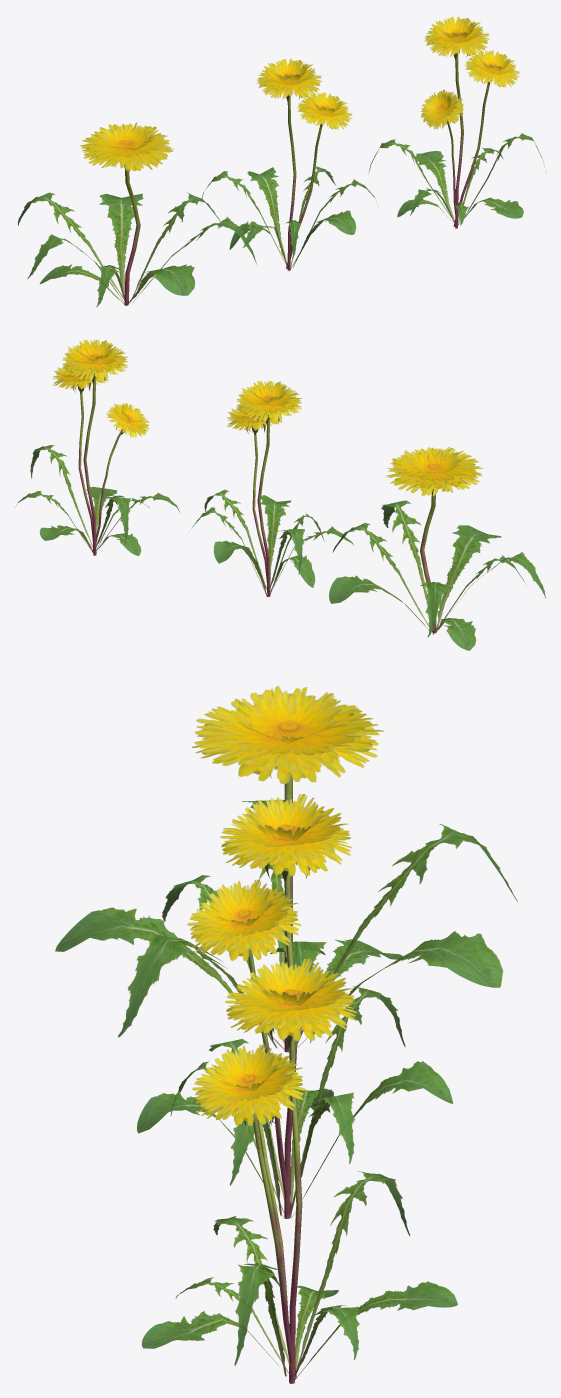
File: dandelion_blossom_flower_game_ready_asset.glb
The picture shows the model from 3 angles, top to bottom: view 1: azimuth 30°, elevation 25°; view 2: azimuth 150°, elevation 25°; view 3: azimuth 270°, elevation 25°; orthographic projection. The views are drawn at different scales.
Visible parts, largest first — view 1: Dandelion1_0, Dandelion3_2, Dandelion2_1; view 2: Dandelion1_0, Dandelion3_2, Dandelion2_1; view 3: Dandelion3_2, Dandelion1_0, Dandelion2_1.
Part boxes in pixels (x1,y1,x2,y2): Dandelion1_0: [17, 122, 256, 307]; Dandelion3_2: [368, 16, 546, 228]; Dandelion2_1: [201, 58, 376, 271]; Dandelion1_0: [329, 446, 545, 650]; Dandelion3_2: [16, 339, 180, 555]; Dandelion2_1: [189, 380, 354, 597]; Dandelion3_2: [141, 958, 457, 1383]; Dandelion1_0: [55, 685, 517, 1052]; Dandelion2_1: [137, 794, 453, 1218].
Bounding box in the file's own units: 0.6313 × 0.2407 × 0.2539.
1 material, 1 textured.
